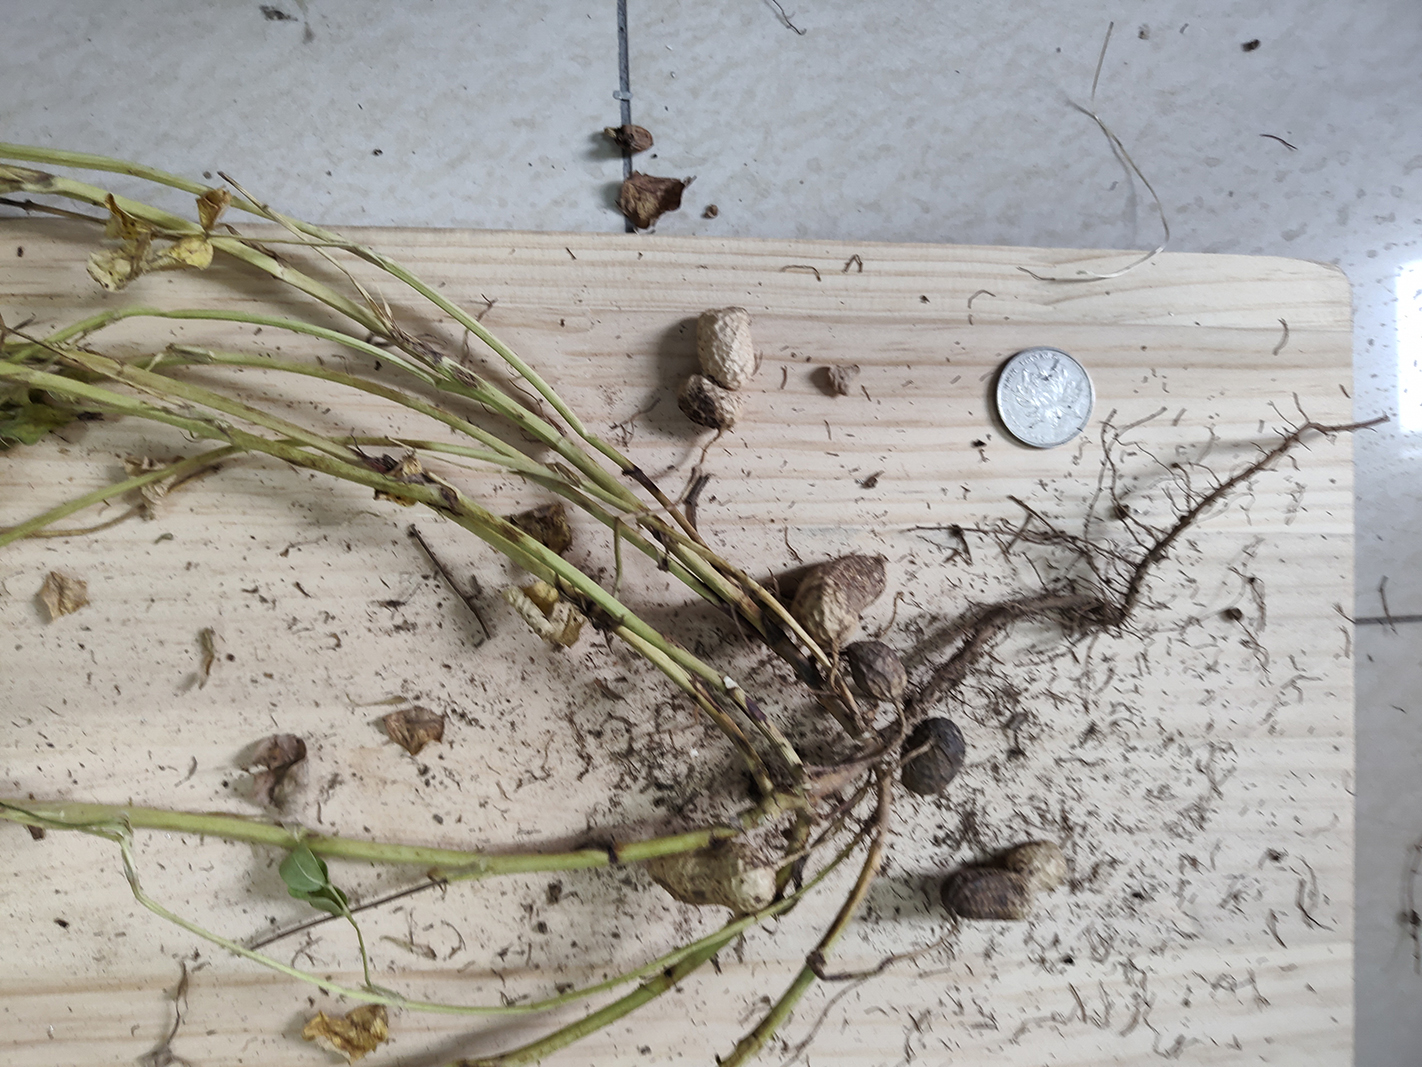h: (679, 306, 756, 429), (656, 848, 771, 911)
l: (944, 839, 1065, 920), (792, 553, 886, 641), (905, 718, 965, 796), (851, 643, 908, 700)
